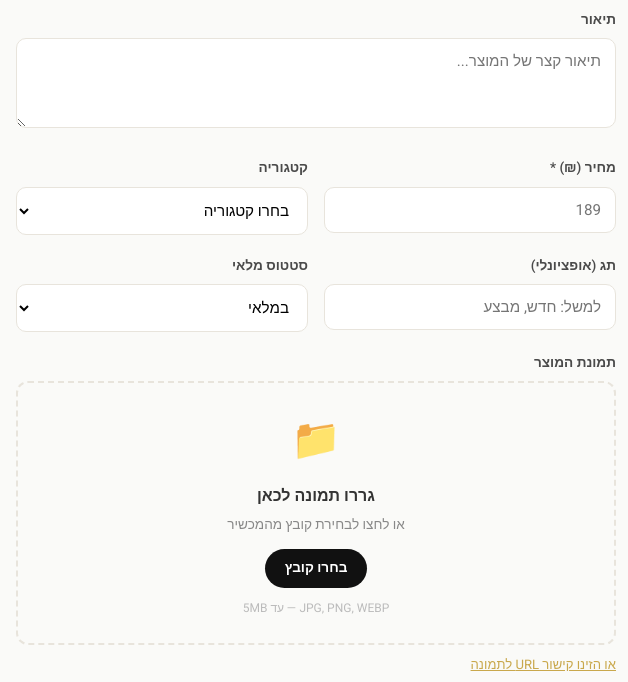
Test: ProductForm — new product › shows URL input when toggle is clicked
Step 1. Click the button "או הזינו קישור URL לתמונה" → (543,664), box [471, 654, 616, 674]
(page scrolled)
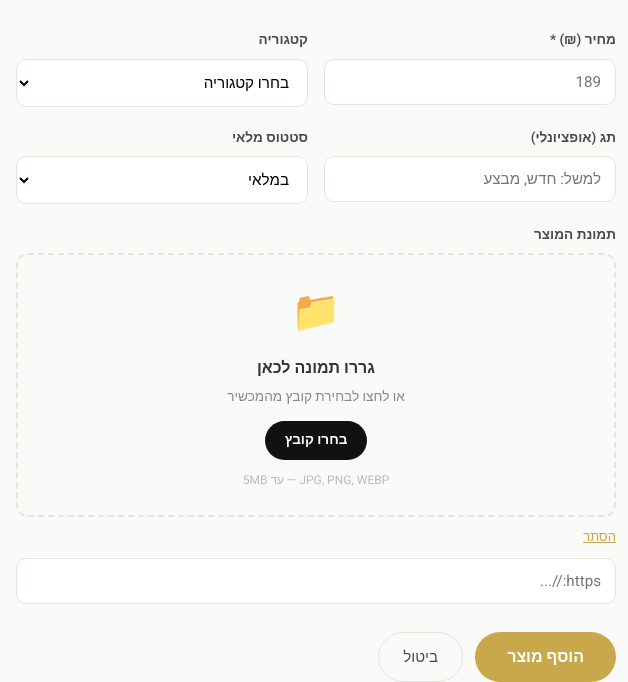
Expected: the field with placeholder "https://..." is shown, [16, 558, 616, 604]
